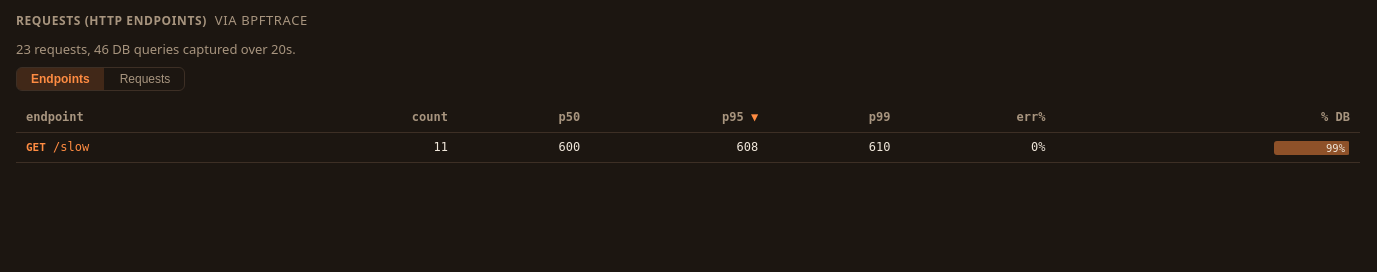
it: RequestsTab › endpoint expand shows the full on/off/DB/run-queue decomposition when captured
Click the row with test id "endpoint-row": (688, 148) [16,133,1360,163]
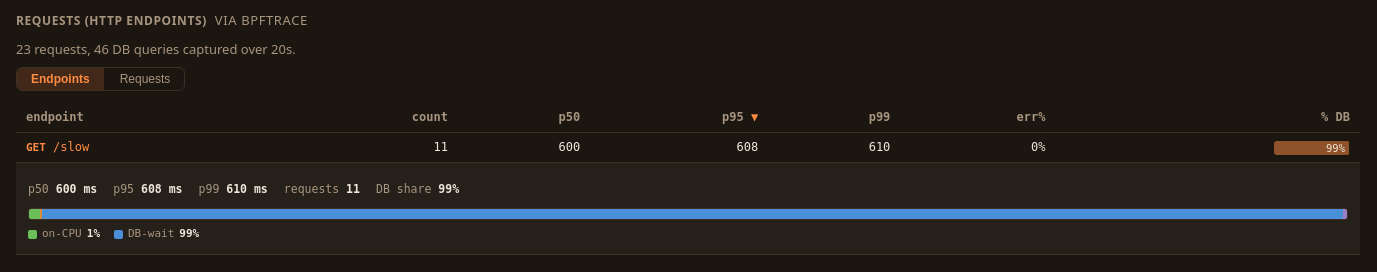
Result: the element with test id "request-breakdown" is shown at [28,208,1348,242]
Result: the element with test id "endpoint-breakdown" shows "DB-wait" at [128,227,174,240]
